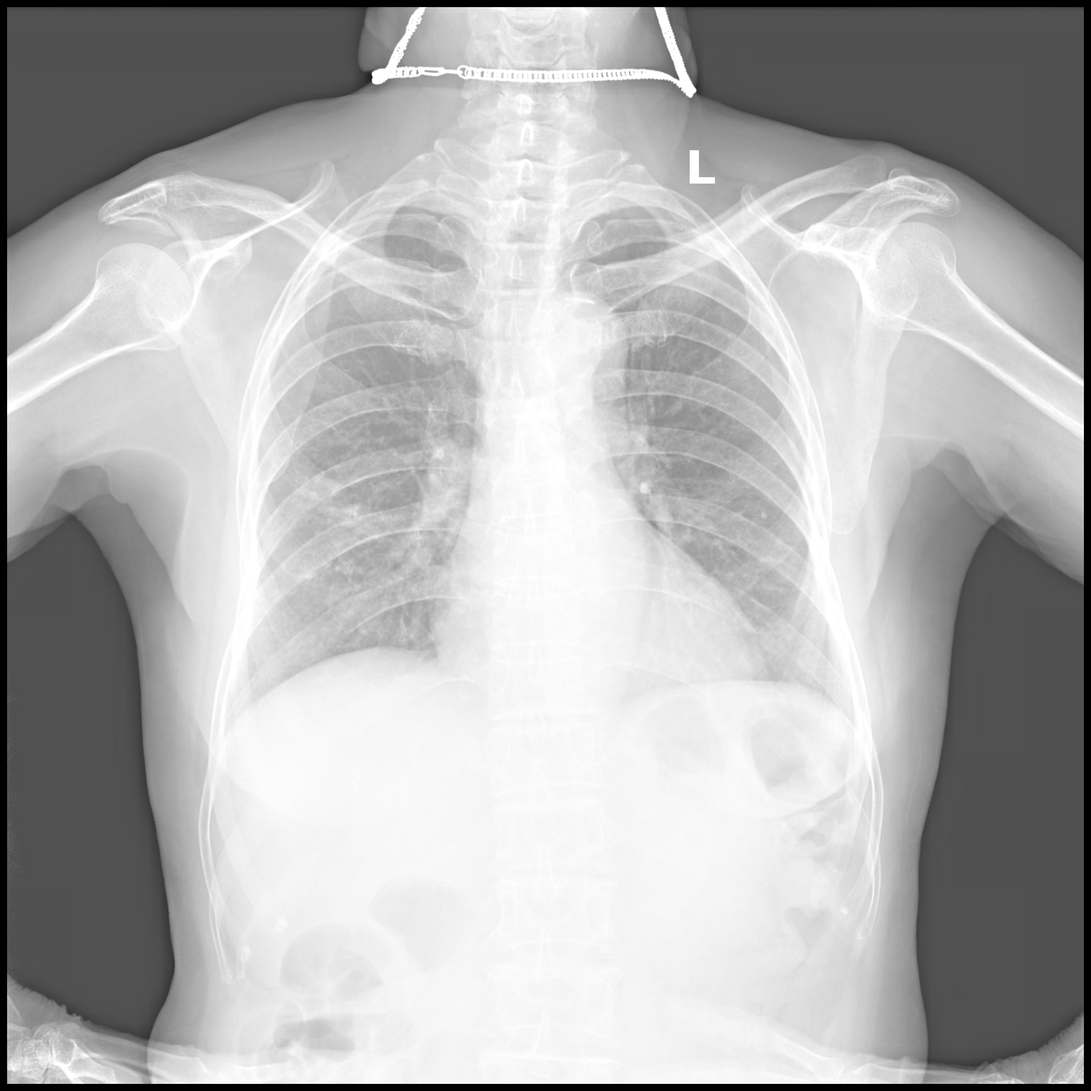Aortic enlargement: (532, 292, 626, 388)
Pulmonary fibrosis: (298, 483, 359, 578)
